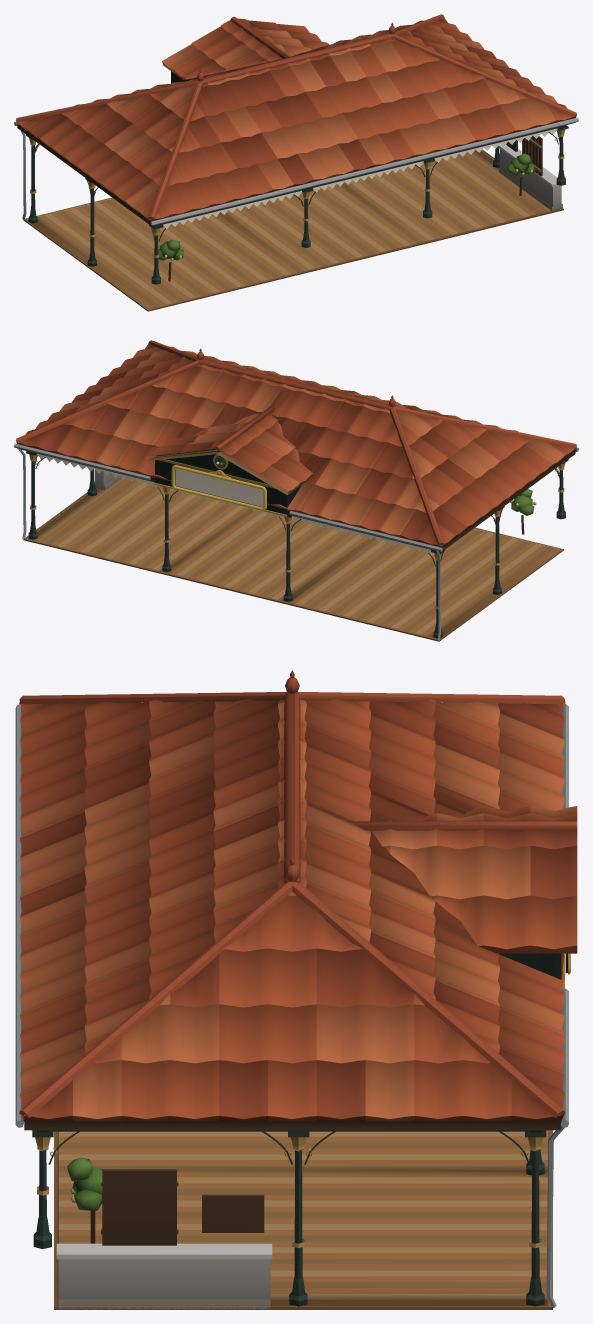
The picture shows the model from 3 angles, top to bottom: view 1: azimuth 30°, elevation 25°; view 2: azimuth 150°, elevation 25°; view 3: azimuth 270°, elevation 25°; orthographic projection. The views are drawn at different scales.
Parts seen in each view (by area): view 1: static_billiards; view 2: static_billiards; view 3: static_billiards.
Boxes of the visible parts, left/top/right/bottom form: static_billiards: left=14, top=14, right=578, bottom=311; static_billiards: left=14, top=340, right=578, bottom=641; static_billiards: left=15, top=670, right=577, bottom=1309.
Bounding box in the file's own units: 15.86 × 6.07 × 9.01.
